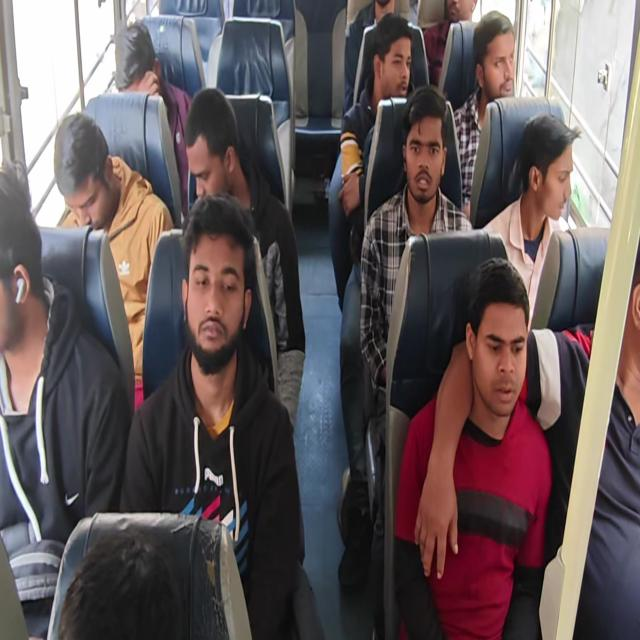person: (1, 1, 638, 638), (118, 192, 320, 638), (428, 234, 640, 638), (337, 84, 474, 588), (0, 164, 132, 638), (393, 256, 553, 638), (183, 86, 306, 434), (53, 112, 174, 411), (556, 236, 640, 638), (327, 13, 413, 312), (480, 112, 582, 330), (114, 22, 194, 219), (57, 528, 184, 639), (452, 10, 516, 218), (343, 0, 395, 114), (422, 0, 478, 87)
